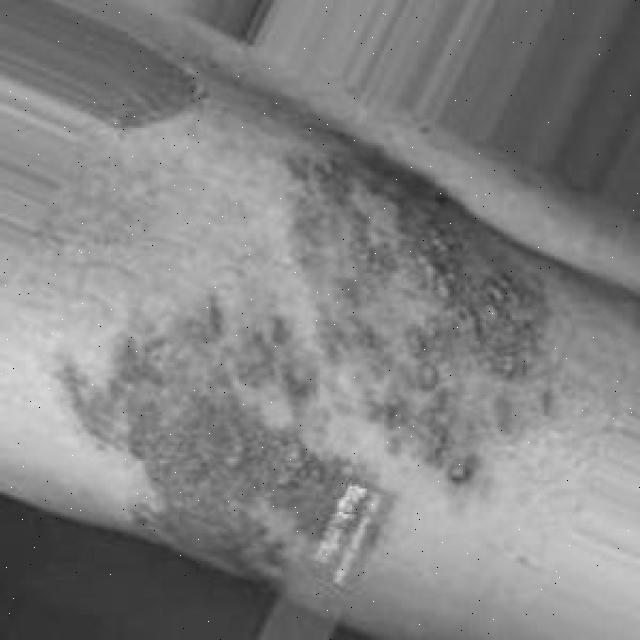Shingles: (282, 115, 544, 498), (56, 289, 354, 571)
